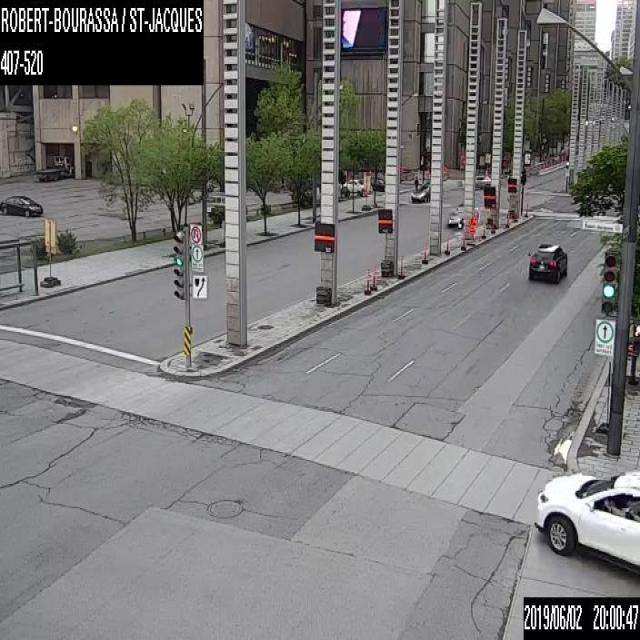construction: (466, 215, 474, 236), (399, 264, 403, 275), (365, 277, 368, 291), (482, 223, 485, 236), (461, 234, 464, 247), (506, 213, 509, 226), (372, 276, 375, 288), (423, 248, 426, 260), (525, 204, 528, 216), (446, 241, 449, 251), (491, 221, 494, 231), (514, 212, 517, 220)
pedestrian: (413, 176, 418, 188)
vehicle: (534, 468, 639, 575), (528, 242, 566, 282), (32, 154, 73, 180), (0, 193, 43, 216), (446, 202, 478, 228), (340, 178, 372, 193), (410, 183, 429, 201), (474, 172, 491, 189), (368, 175, 384, 190)
